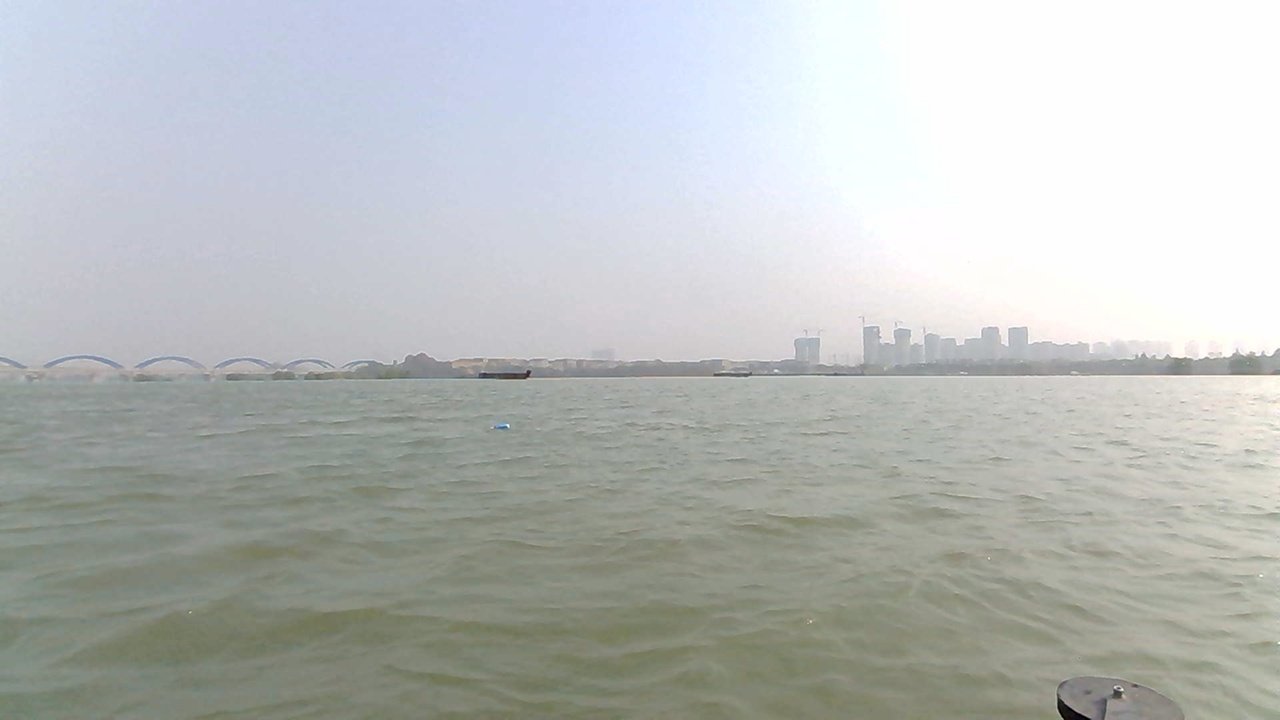bottle: (487, 420, 517, 435)
